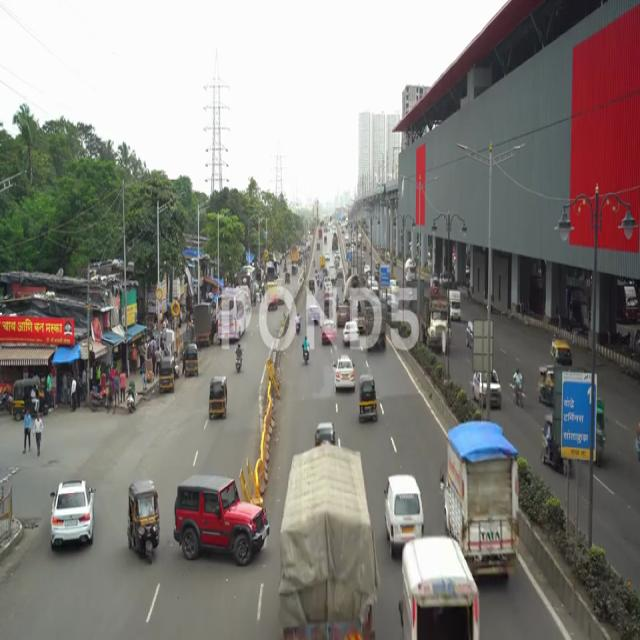car: (175, 472, 269, 580), (47, 472, 96, 548), (386, 474, 424, 545), (336, 355, 355, 391)
motorbike: (512, 364, 527, 412)
rikshaw: (124, 478, 161, 570), (205, 366, 232, 421), (359, 370, 378, 424)
truck: (274, 443, 374, 640), (440, 408, 521, 591)
